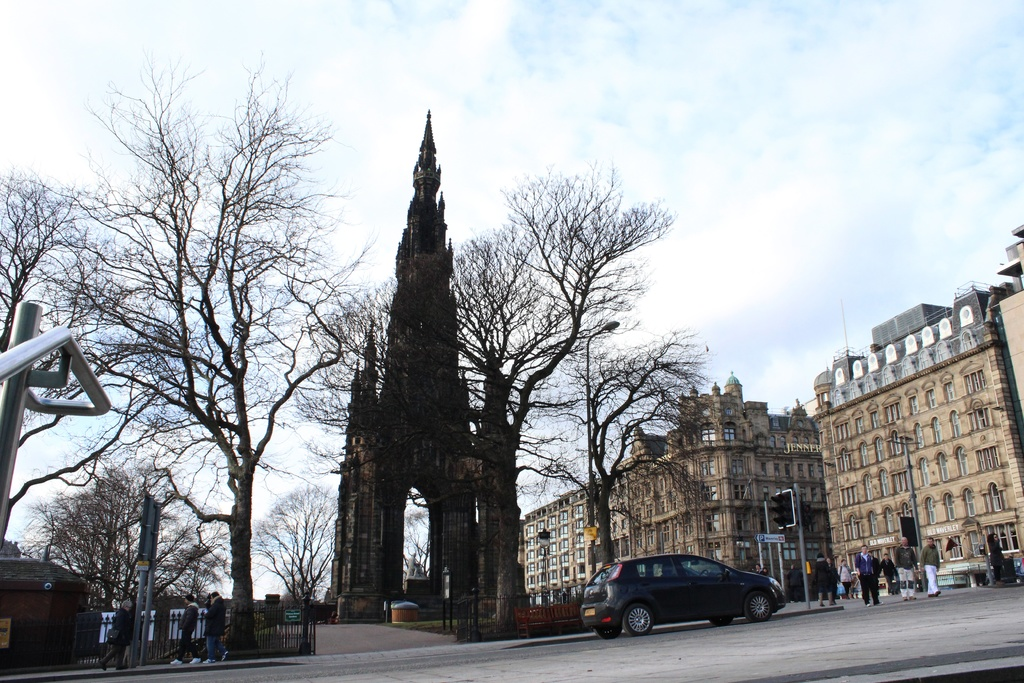Car: (579, 549, 785, 636)
